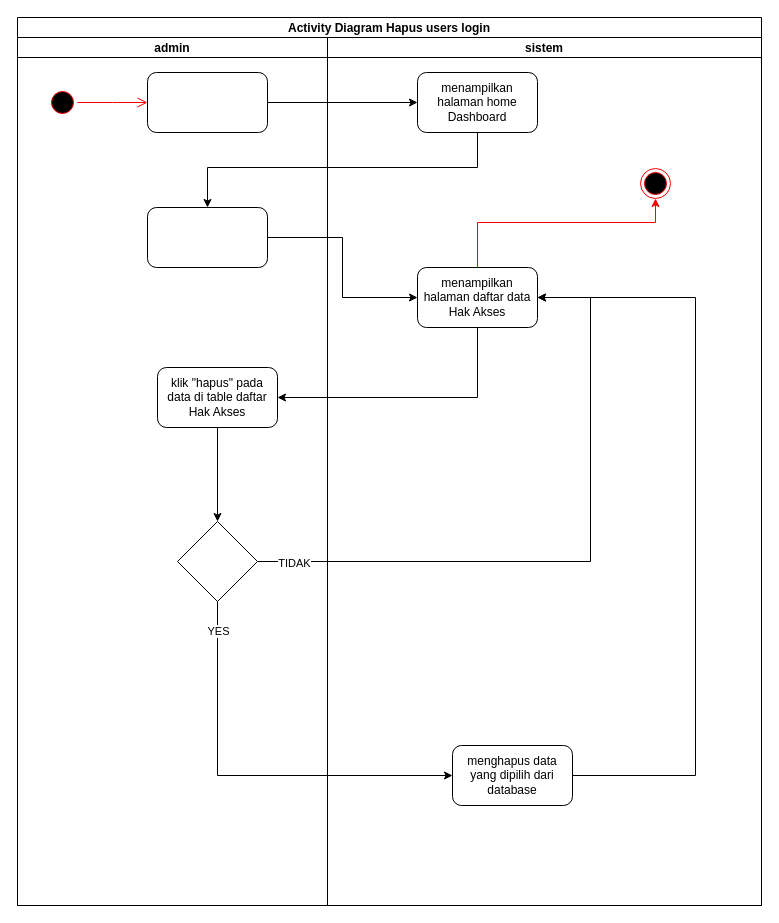
The diagram is 779 pixels wide and 923 high, and some of its shapes have lost their labels. The shapes that lost their labels are listed below. From the top down, each one's centre as x and y in pixels, then its label:
(x=207, y=102): Login
(x=207, y=237): klik menu "Administrator" pilh "Hak Akses"
(x=217, y=561): YAKIN?
